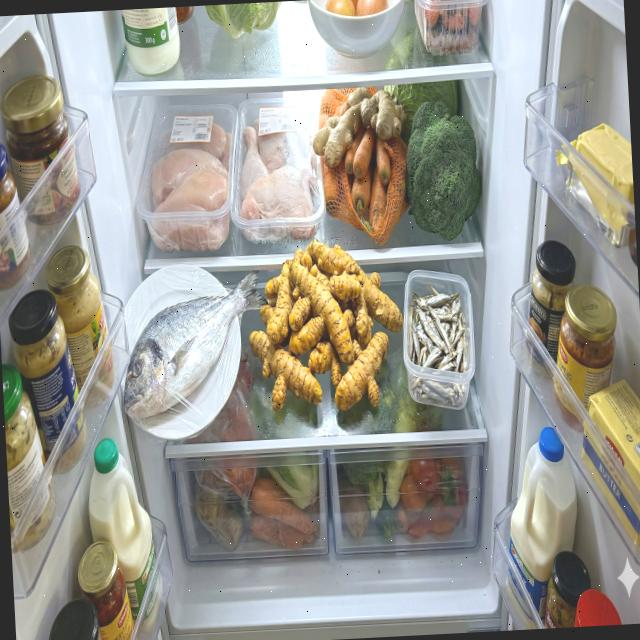anchovies: (406, 282, 470, 410)
brocolli: (403, 100, 482, 243)
carrot: (342, 123, 394, 236), (248, 476, 318, 538)
chicken: (147, 122, 238, 255), (235, 116, 319, 246)
fish: (116, 270, 274, 420)
ginger: (310, 85, 409, 168)
leafy_greens: (266, 464, 321, 512)
